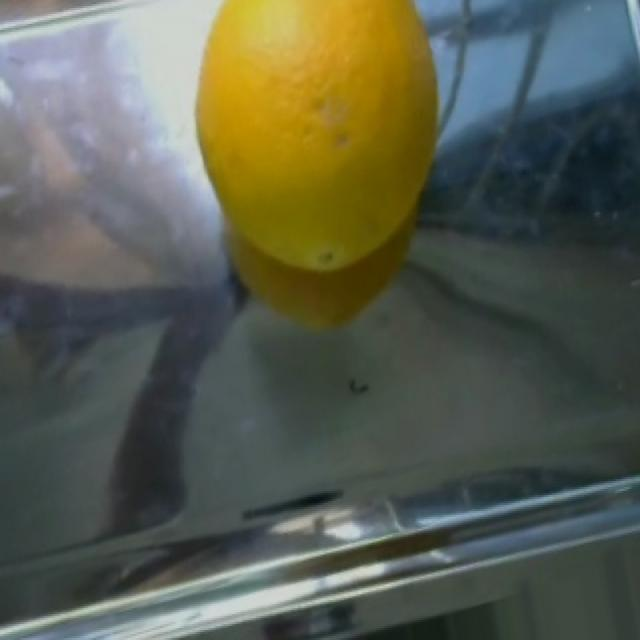Fruit: (172, 0, 456, 280)
